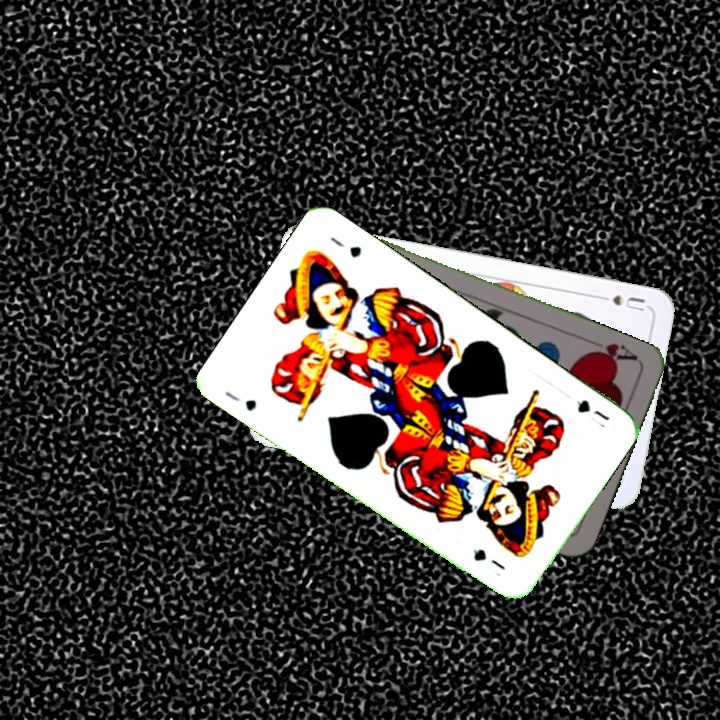GU: (572, 395, 613, 424), (220, 387, 260, 414)
HA: (582, 336, 641, 367)
SU: (591, 290, 648, 314)
